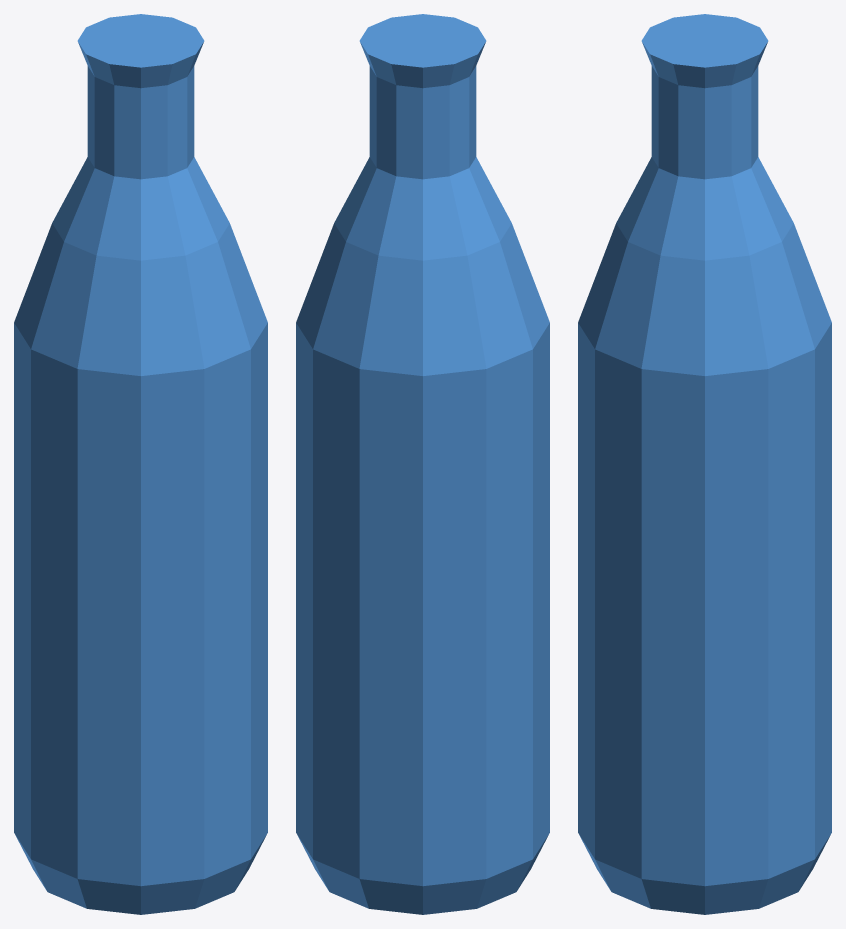
The model's file is bottle_blue.fbx.
3 views of the same model, side by side, from view 1: azimuth 30°, elevation 25°; view 2: azimuth 150°, elevation 25°; view 3: azimuth 270°, elevation 25° (orthographic).
Parts seen in each view (by area): view 1: bottle_blue; view 2: bottle_blue; view 3: bottle_blue.
Boxes of the visible parts, x1,y1,x2,y2 form: bottle_blue: (14, 14, 267, 914); bottle_blue: (296, 14, 549, 914); bottle_blue: (578, 14, 831, 914).
Size of the model in its own units: 0.025 by 0.09 by 0.025.
